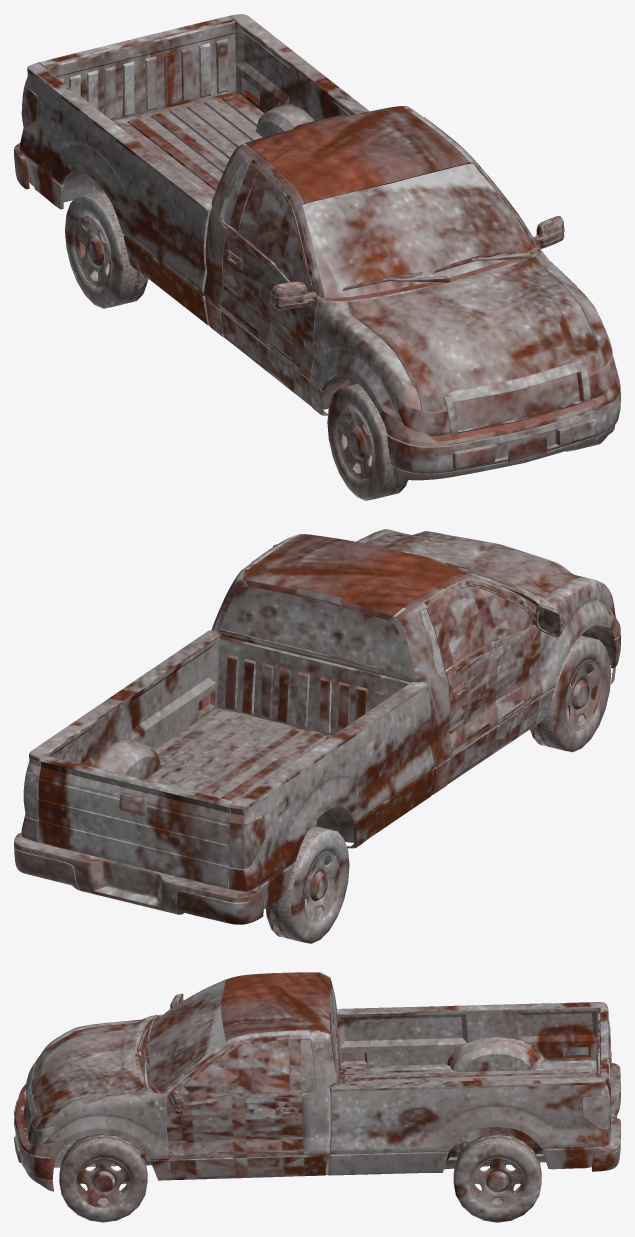
The model's file is araba1.fbx.
3 views of the same model, one above another, from view 1: azimuth 30°, elevation 25°; view 2: azimuth 150°, elevation 25°; view 3: azimuth 270°, elevation 25° (orthographic). The views are drawn at different scales.
Visible parts, largest first — view 1: Object016; view 2: Object016; view 3: Object016.
Part boxes in pixels (x1=…): Object016: x1=14, y1=14, x2=620, y2=500; Object016: x1=14, y1=529, x2=620, y2=943; Object016: x1=14, y1=972, x2=620, y2=1222.
Bounding box in the file's own units: 185 × 148 × 448.
